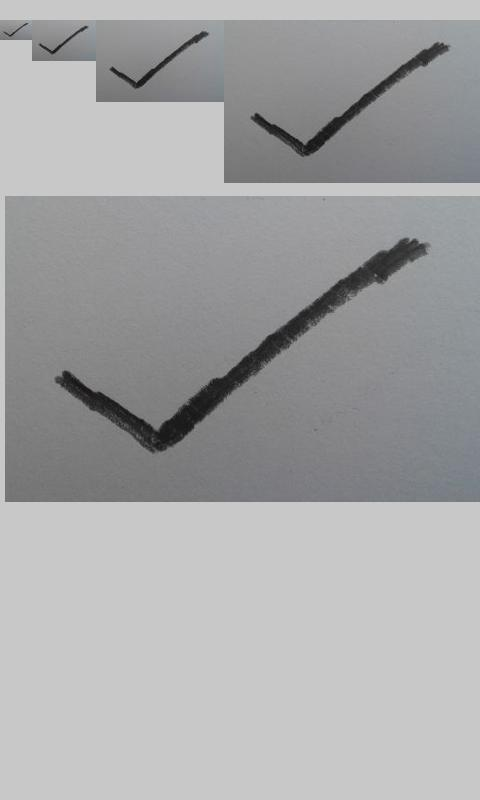check_box: (59, 239, 422, 453), (250, 42, 447, 156), (109, 31, 206, 89), (38, 26, 87, 55), (3, 23, 27, 37)
